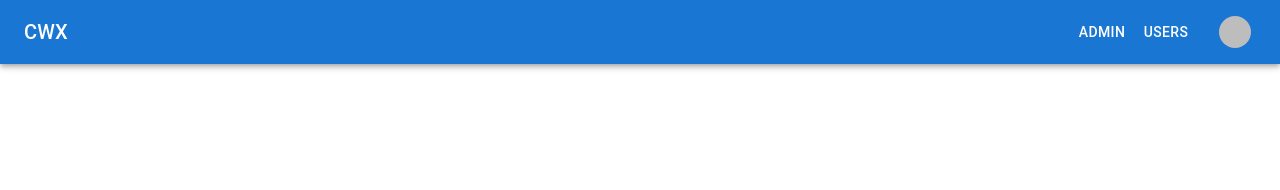
Test: should show profile menu when clicked
Click the button named "Account settings" at (1235, 32), box [1214,11,1256,53]
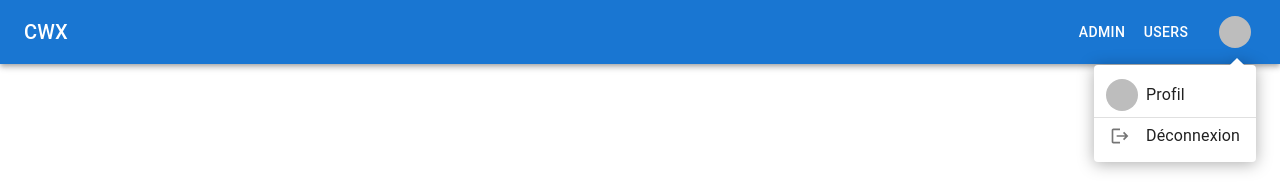
Expected: the number of menu items is 2, [1106,79,1185,111]; [1110,126,1240,146]
Expected: the menu item "Profil" is shown, [1106,79,1185,111]
Expected: the menu item "Déconnexion" is shown, [1110,126,1240,146]
